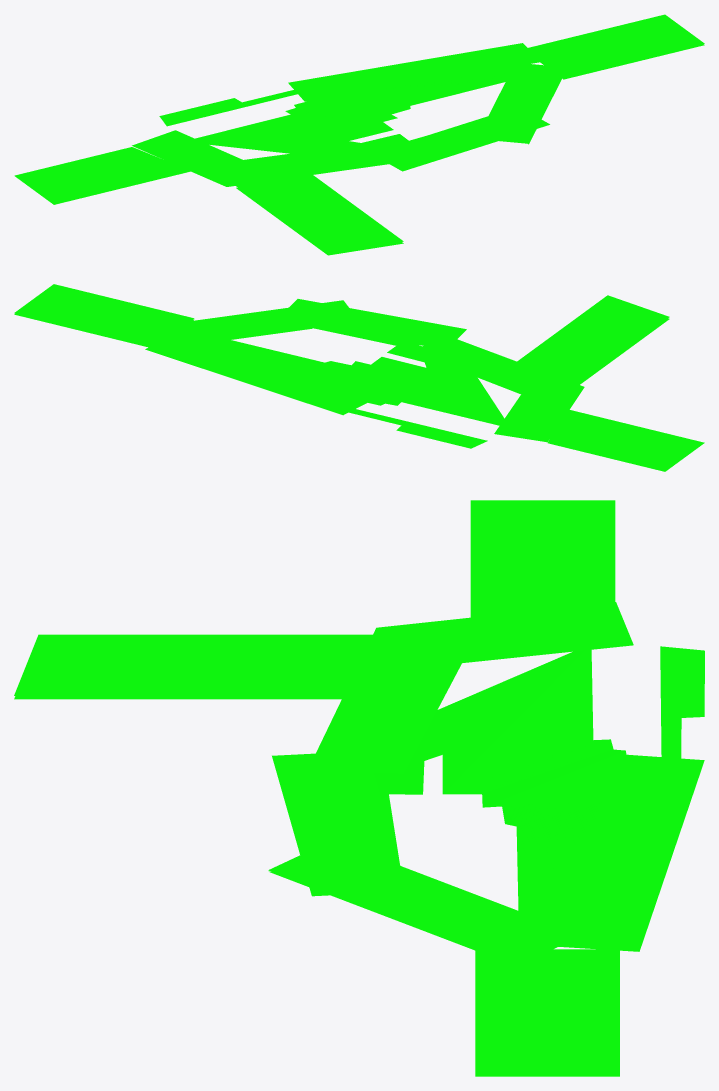
The model's file is s02b_tb3-floor.glb.
The picture shows the model from 3 angles, top to bottom: view 1: azimuth 30°, elevation 25°; view 2: azimuth 150°, elevation 25°; view 3: azimuth 270°, elevation 25°; orthographic projection. The views are drawn at different scales.
Parts seen in each view (by area): view 1: collision_floor-colonly; view 2: collision_floor-colonly; view 3: collision_floor-colonly.
Part boxes in pixels (x1=…): collision_floor-colonly: x1=14, y1=14, x2=704, y2=255; collision_floor-colonly: x1=14, y1=284, x2=704, y2=471; collision_floor-colonly: x1=14, y1=500, x2=704, y2=1076.
Size of the model in its own units: 56.54 by 0.2383 by 28.66.
